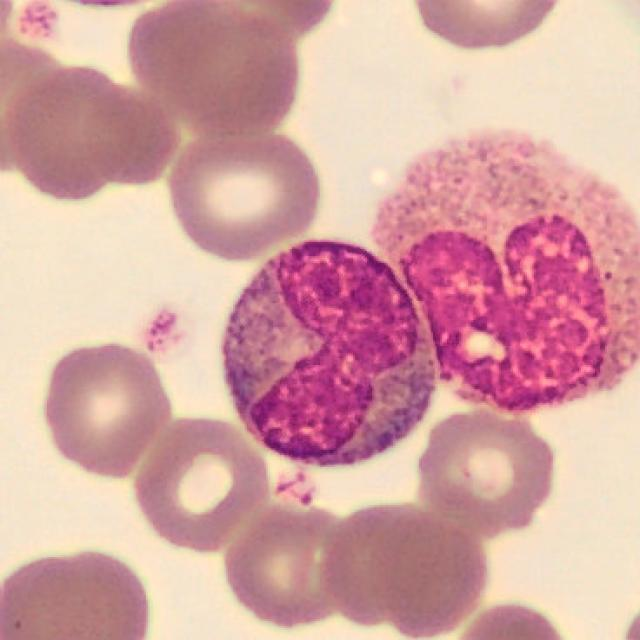Bastonete: (376, 133, 638, 408), (226, 240, 435, 462)
